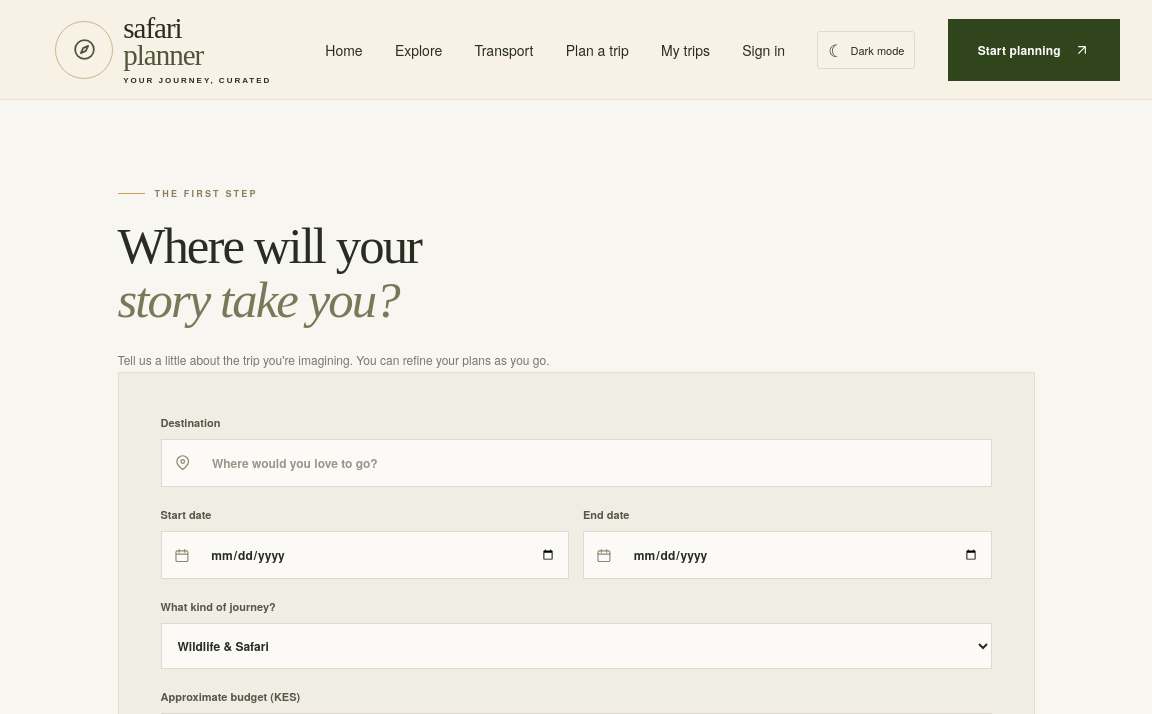
Test case: App trip planning › rejects an end date earlier than the start date
Type "Maasai Mara" into the field labelled "Destination".
click(595, 463); type("Maasai Mara")  # box [200,440,990,486]
Type "2030-06-10" into the date field labelled "Start date".
click(383, 555); type("2030-06-10")  # box [198,532,568,578]
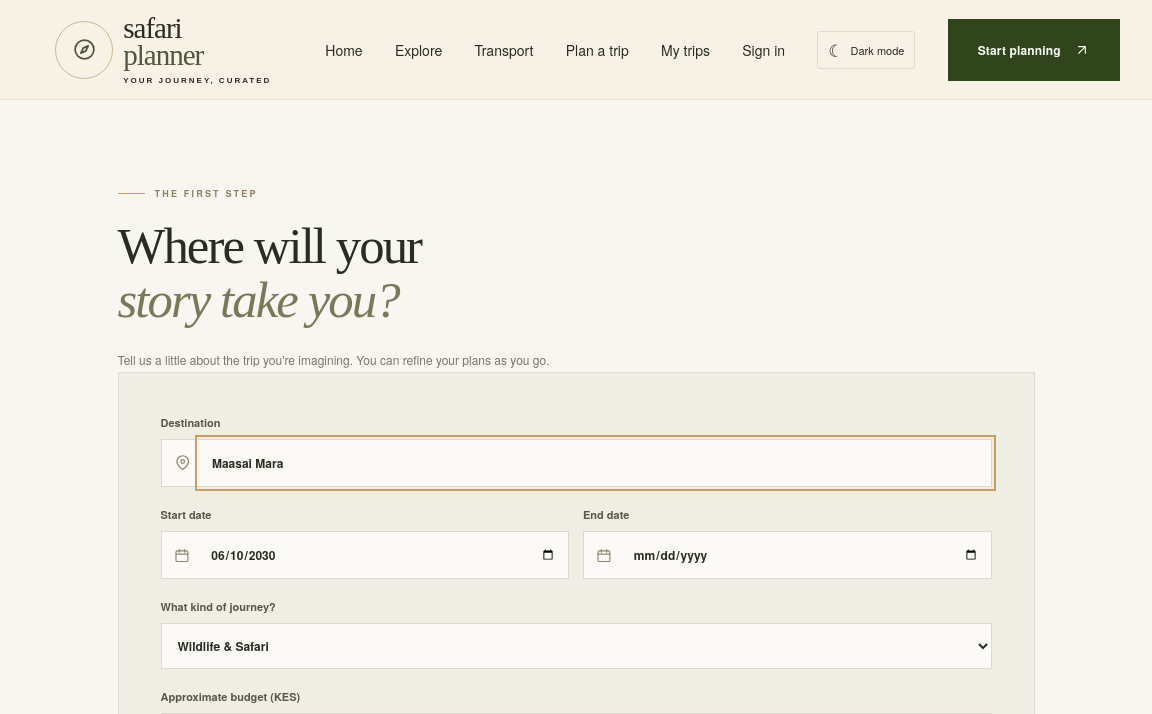
Type "2030-06-14" into the date field labelled "End date".
click(806, 555); type("2030-06-14")  # box [621,532,990,578]
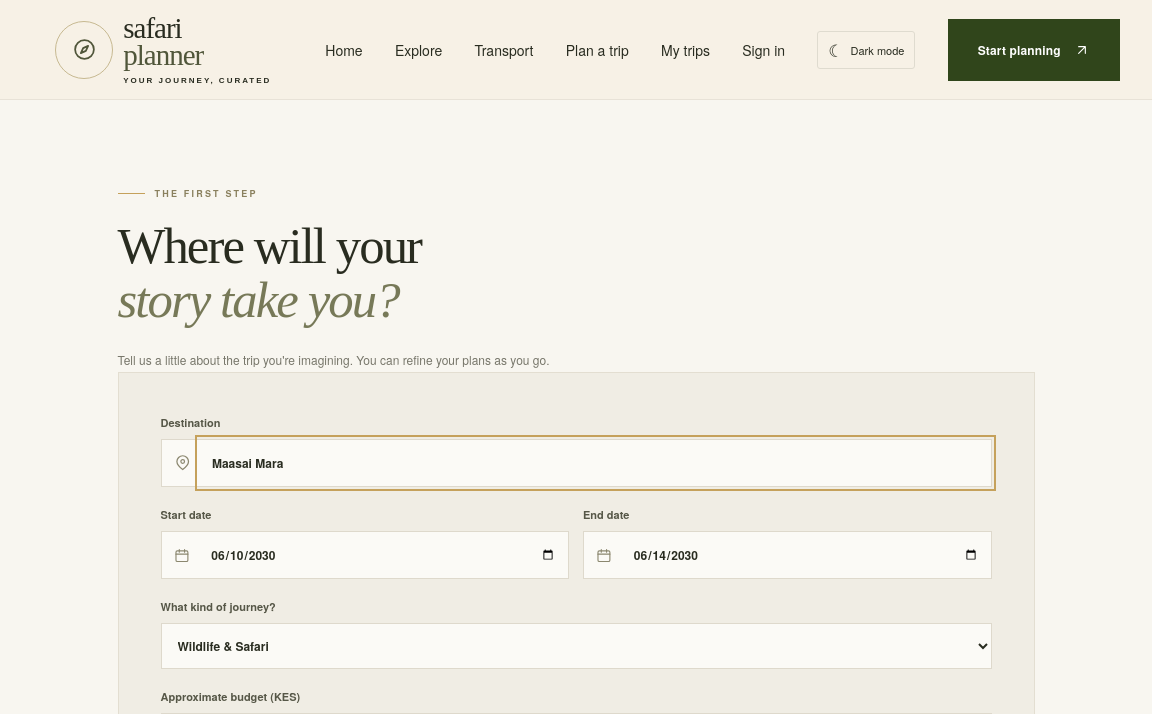
Select "Wildlife & Safari" in the dropdown labelled "What kind of journey?" at [576, 646], box [160,623,992,669]
(page scrolled)
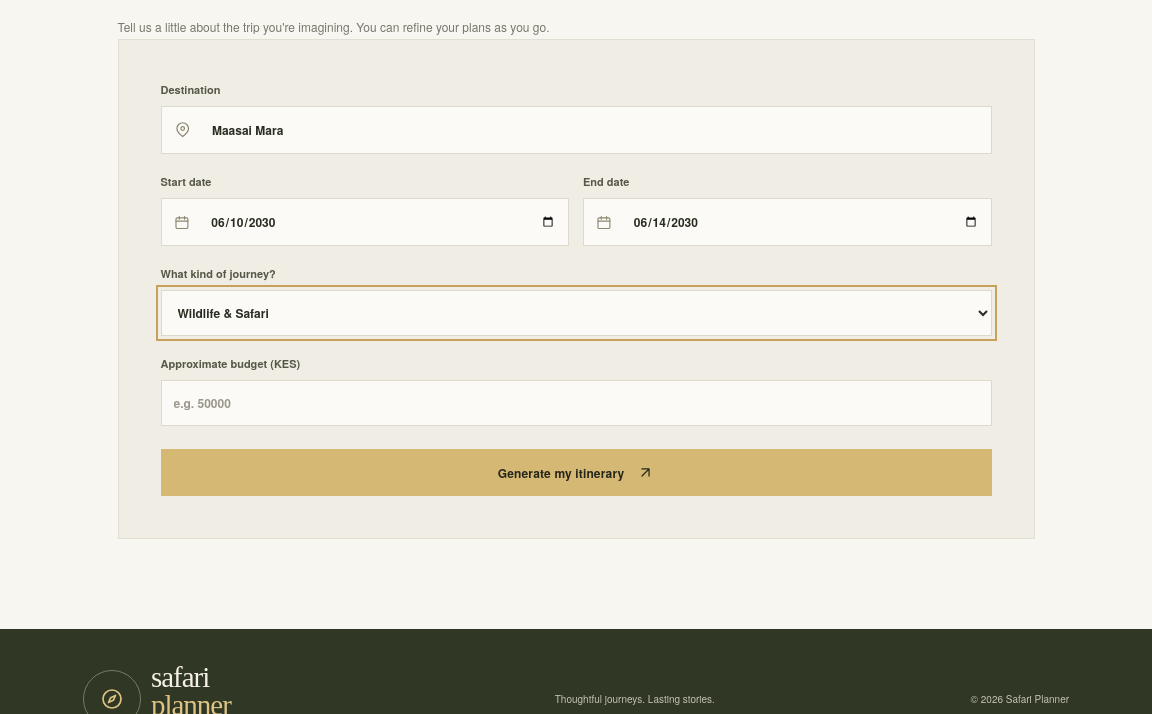
Type "50000" into the number field labelled "Approximate budget (KES)".
click(576, 403); type("50000")  # box [160,380,992,426]
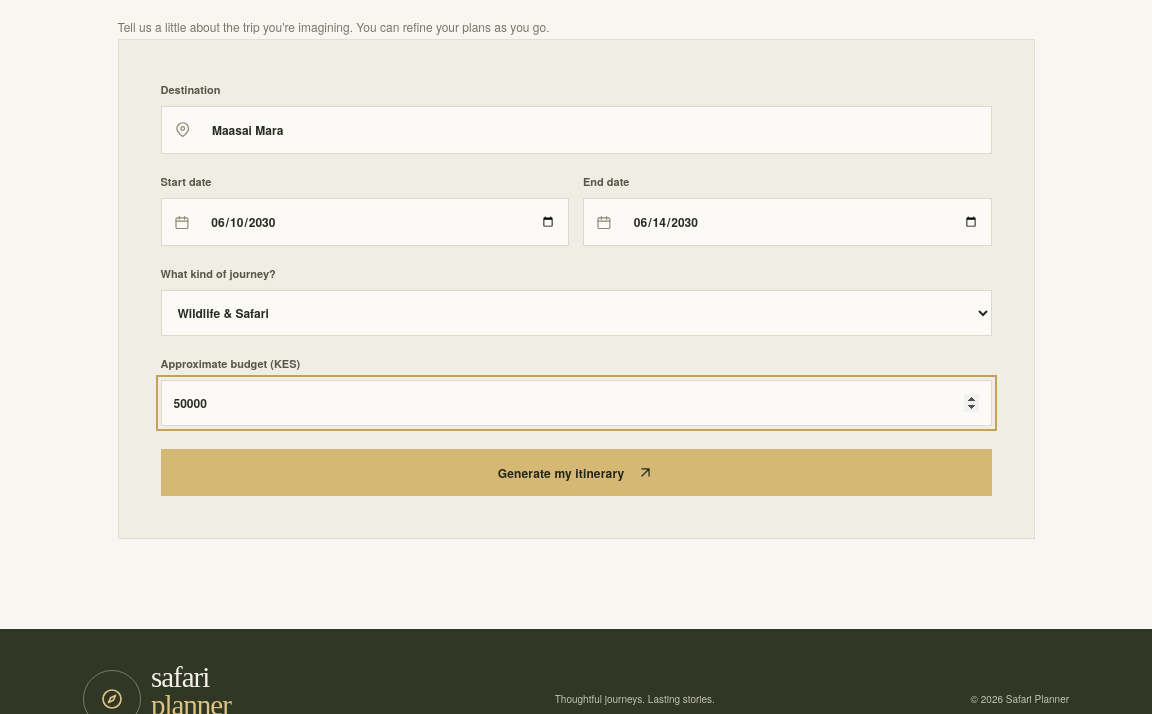
Type "2030-06-05" into the date field labelled "End date".
click(806, 222); type("2030-06-05")  # box [621,199,990,245]
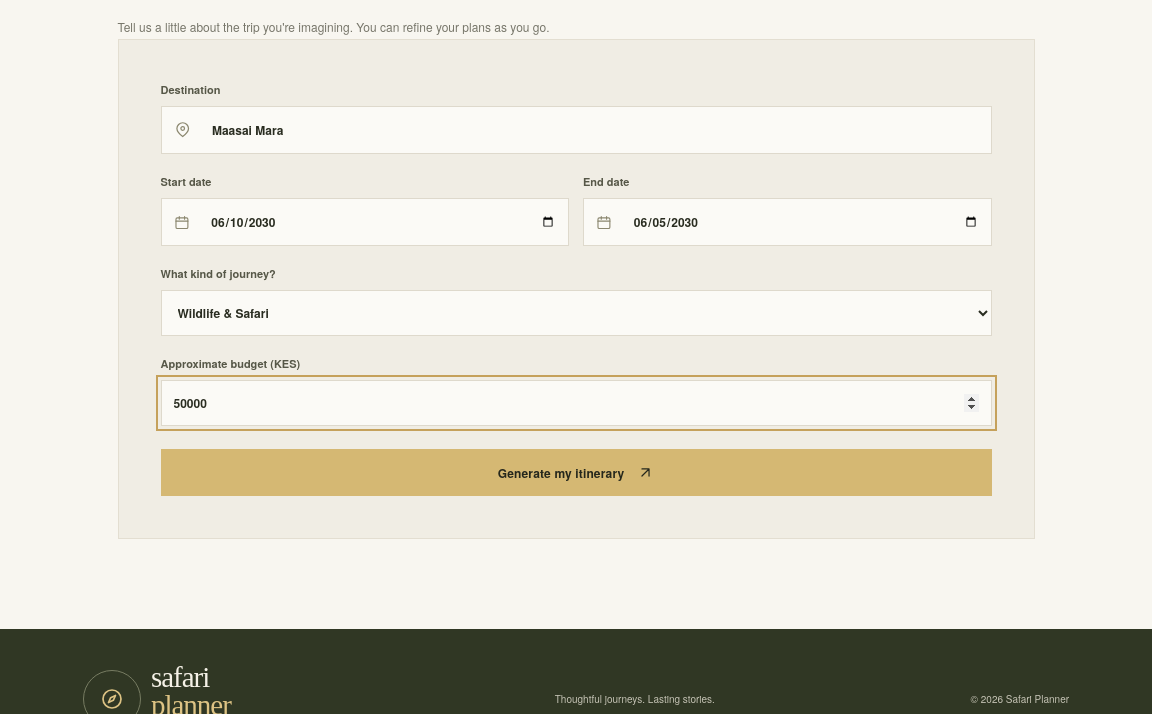
Submit the form named "generate my itinerary", box [118,39,1034,539]
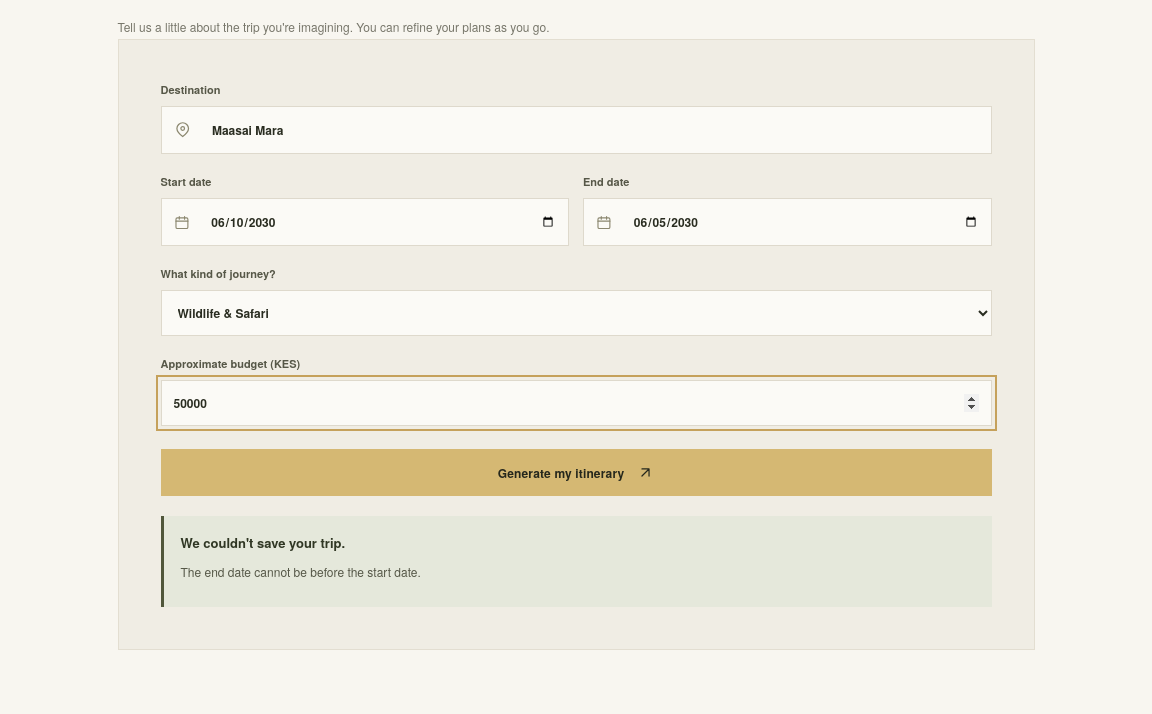
Now the text "The end date cannot be before the start date." is shown, box [180,563,421,580]
